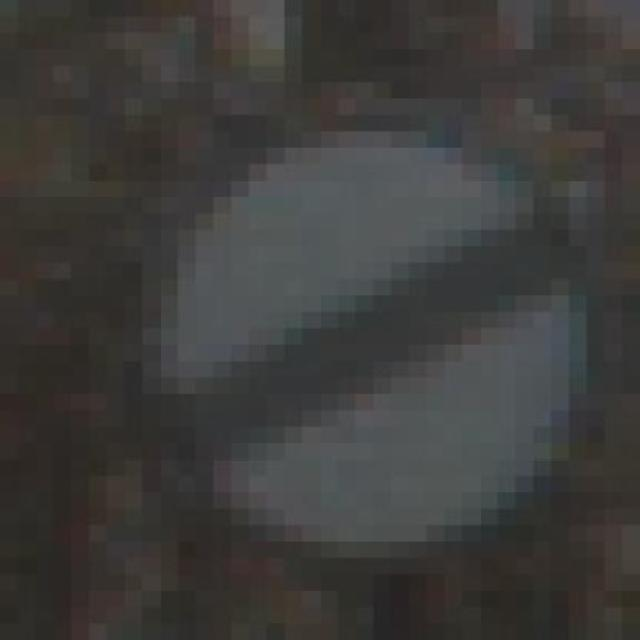End of all speed and passing limits: (125, 115, 604, 558)
